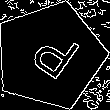P_SW: (20, 25, 80, 87)
